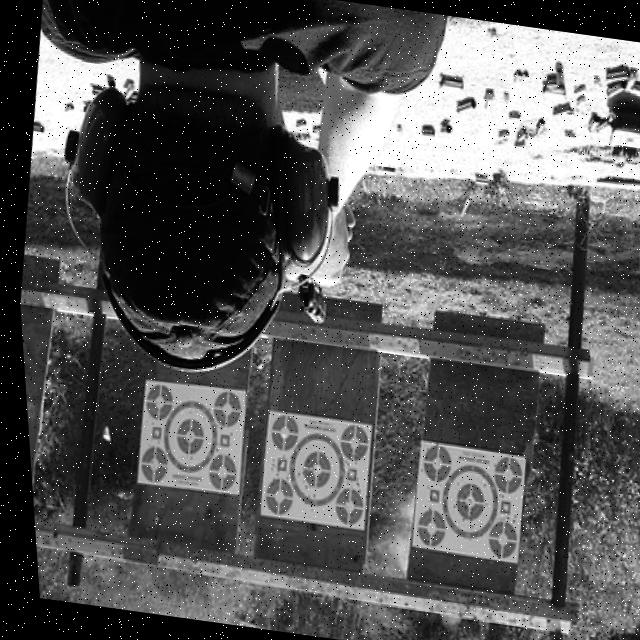pistol: (593, 94, 640, 186), (287, 272, 328, 330)
